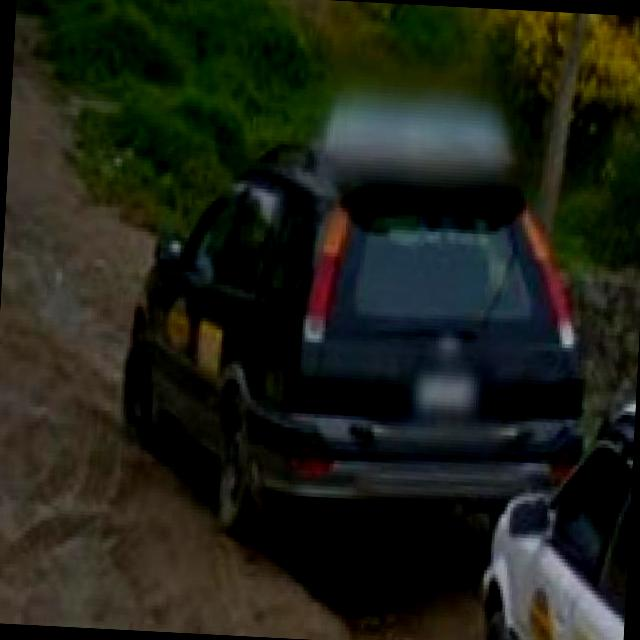car: (121, 113, 597, 544)
